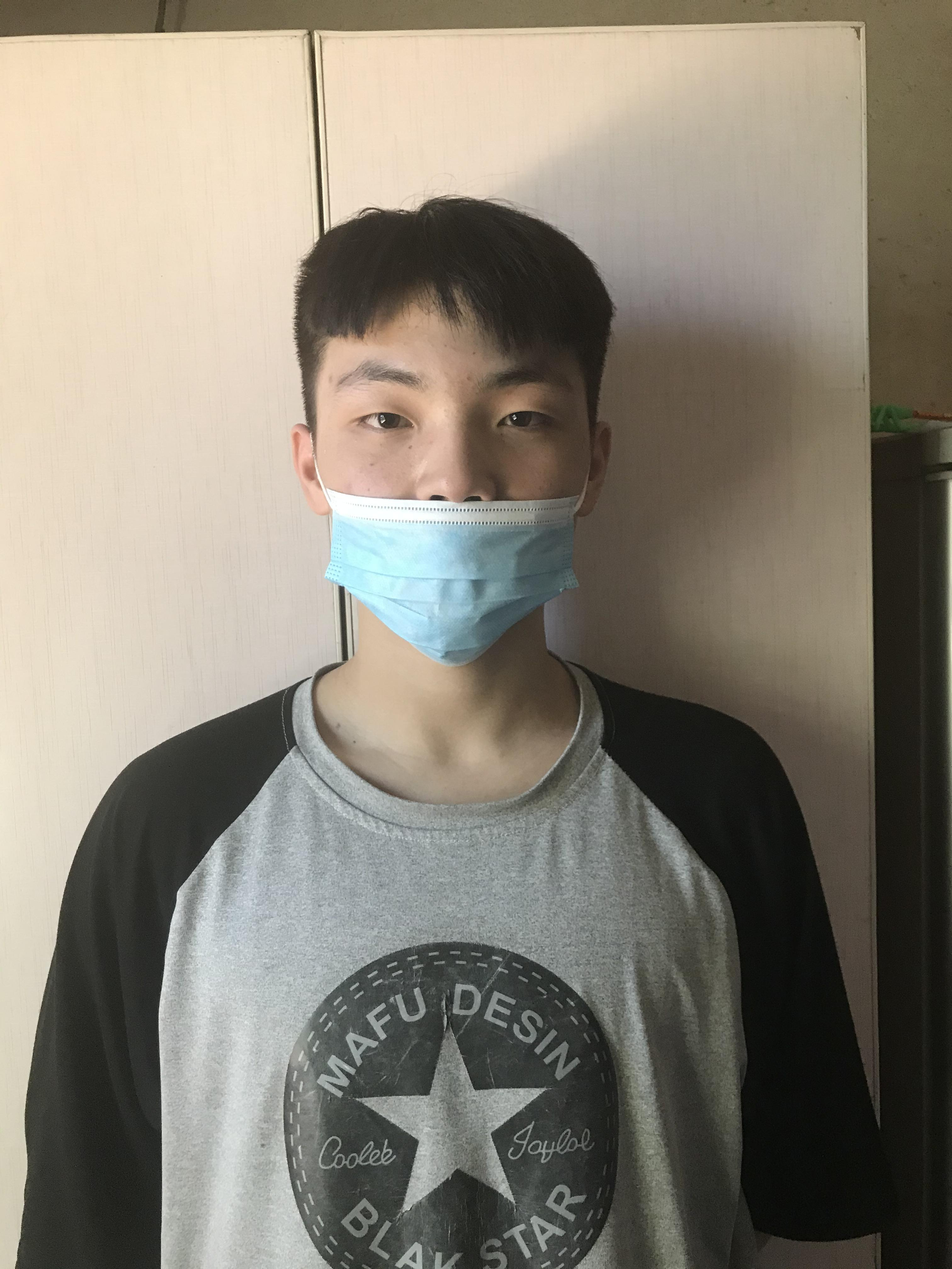WRONG: (318, 330, 592, 665)
